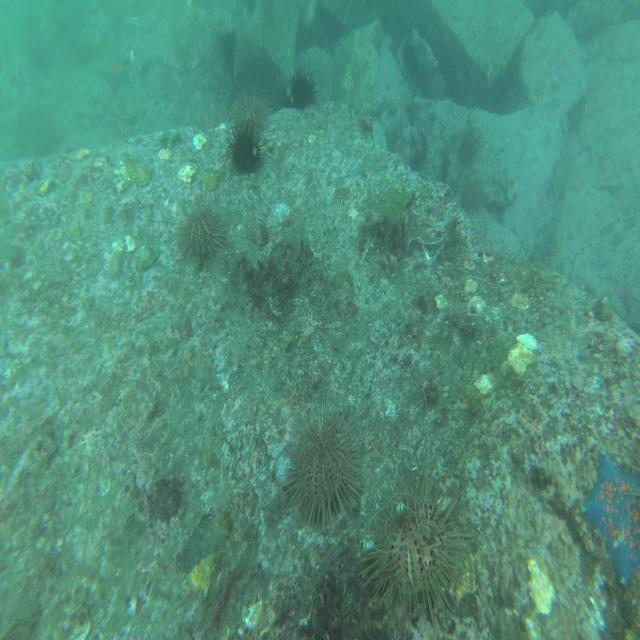echinus: (369, 474, 465, 614), (282, 424, 361, 520), (180, 203, 226, 260), (228, 93, 272, 134), (228, 122, 262, 172), (287, 67, 316, 111), (458, 181, 480, 212), (457, 136, 479, 165)
starfish: (580, 448, 640, 583)
